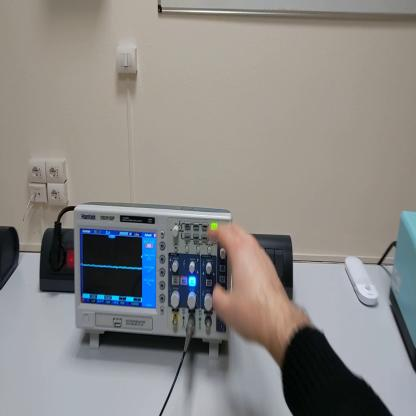hand: (208, 222, 286, 346)
oscilloscope: (73, 203, 233, 361)
socket: (39, 228, 75, 294), (2, 225, 22, 291)
welder station: (390, 212, 416, 369)
